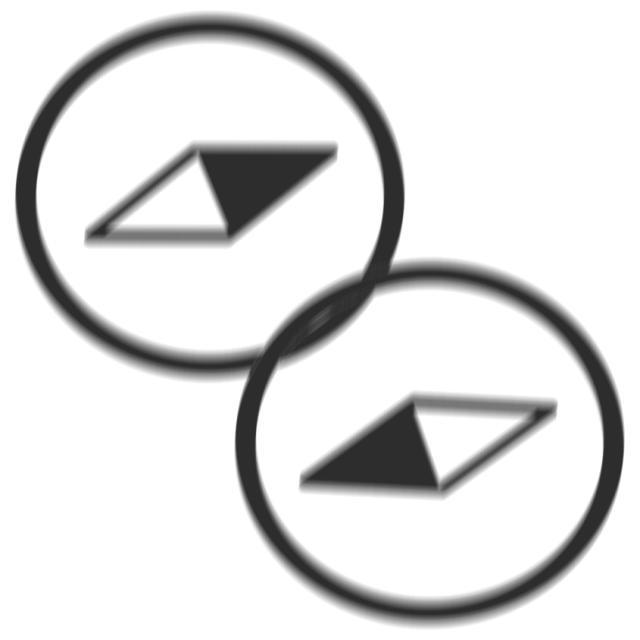compass: (7, 6, 420, 400), (222, 246, 631, 640)
